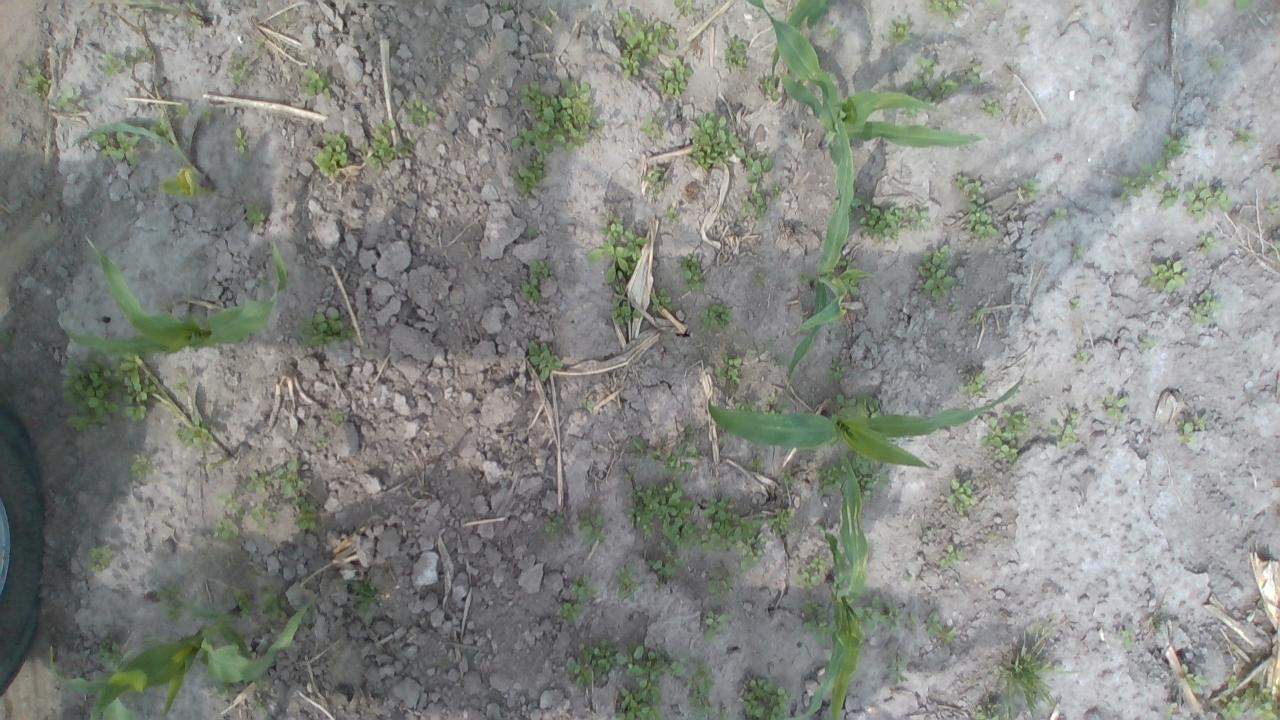Maize: (742, 0, 984, 152), (45, 593, 312, 720), (705, 375, 1025, 471), (57, 231, 292, 358), (788, 117, 874, 384), (794, 453, 867, 720), (770, 0, 836, 80)
Weeds: (58, 348, 158, 434), (994, 625, 1072, 720), (509, 76, 604, 154), (624, 478, 701, 551), (701, 494, 764, 572), (589, 213, 648, 295), (612, 10, 676, 80), (688, 111, 748, 170), (564, 640, 626, 690), (614, 640, 689, 680), (906, 56, 960, 109), (358, 119, 412, 170), (1116, 156, 1174, 202), (980, 410, 1030, 463), (1217, 678, 1280, 720), (846, 449, 892, 505), (740, 673, 791, 720), (916, 245, 960, 299), (86, 127, 144, 167), (852, 592, 905, 634), (858, 194, 902, 243), (1183, 180, 1234, 222), (302, 306, 354, 346), (614, 678, 663, 720), (796, 598, 834, 650), (1142, 257, 1192, 294), (156, 164, 207, 200), (964, 192, 1001, 240), (683, 662, 713, 720), (258, 582, 296, 626), (314, 131, 351, 175), (526, 338, 562, 382), (830, 254, 864, 299), (654, 56, 692, 96), (834, 391, 884, 420), (660, 446, 703, 478), (270, 459, 305, 498), (1046, 410, 1080, 449), (512, 154, 545, 194), (576, 509, 610, 547), (646, 548, 686, 580), (158, 582, 187, 626), (946, 478, 980, 515), (676, 253, 706, 294), (814, 460, 846, 498), (176, 415, 211, 449), (925, 610, 958, 646), (880, 14, 914, 48), (1188, 290, 1223, 323), (1176, 662, 1212, 694), (298, 67, 334, 98), (346, 576, 378, 610), (96, 638, 128, 672), (744, 154, 772, 192), (720, 33, 750, 68), (404, 98, 439, 128), (796, 556, 826, 590), (712, 351, 742, 385), (831, 190, 865, 220), (614, 564, 640, 603), (702, 609, 732, 642), (289, 496, 319, 529), (98, 50, 134, 77), (238, 194, 268, 226), (1101, 391, 1130, 424), (738, 190, 769, 220), (957, 366, 986, 398), (1161, 130, 1190, 162), (701, 302, 734, 330), (1175, 414, 1207, 442), (248, 498, 276, 530), (886, 654, 911, 689), (21, 62, 45, 98), (85, 544, 114, 572), (640, 166, 668, 195), (128, 452, 158, 479), (570, 574, 597, 604), (211, 514, 241, 541), (610, 300, 642, 325), (754, 75, 782, 103), (938, 544, 966, 572), (54, 88, 83, 115), (227, 54, 250, 88), (232, 588, 255, 622), (924, 0, 961, 21), (148, 115, 175, 143), (766, 508, 791, 538), (902, 207, 932, 232), (961, 63, 989, 89), (649, 284, 675, 312), (637, 109, 660, 138), (954, 172, 984, 194), (707, 572, 737, 594), (246, 472, 273, 496), (559, 601, 584, 626), (1194, 232, 1220, 256), (216, 493, 242, 516), (1228, 127, 1257, 146), (212, 679, 238, 700), (526, 258, 552, 279), (232, 126, 251, 154), (732, 397, 760, 416), (979, 96, 1002, 118), (1158, 187, 1180, 209), (542, 512, 562, 536), (828, 358, 848, 382), (974, 702, 1000, 720), (670, 0, 695, 18), (1020, 178, 1042, 198), (1046, 204, 1068, 224), (764, 396, 786, 416), (173, 100, 193, 121), (520, 278, 540, 299), (1121, 628, 1138, 652), (749, 454, 767, 476), (198, 103, 214, 126), (780, 469, 800, 487), (751, 271, 769, 290), (1206, 55, 1226, 72), (662, 206, 679, 226), (774, 350, 792, 368), (630, 436, 649, 453), (1014, 20, 1030, 40), (494, 0, 514, 16), (0, 326, 16, 346), (898, 105, 922, 118), (1138, 336, 1158, 351), (1264, 199, 1280, 217), (826, 23, 842, 40), (1223, 673, 1240, 689), (141, 634, 157, 651), (969, 306, 988, 320), (134, 45, 154, 58), (1231, 0, 1251, 12), (1068, 296, 1082, 312), (1071, 244, 1084, 260), (174, 376, 187, 392), (1076, 352, 1090, 366), (334, 409, 347, 424), (254, 676, 266, 690), (257, 274, 270, 286), (528, 226, 540, 239), (1195, 0, 1212, 9), (652, 446, 662, 461), (772, 184, 782, 199), (584, 398, 594, 412), (799, 271, 810, 283), (718, 711, 731, 720), (988, 0, 1002, 8), (543, 14, 552, 24), (1274, 166, 1280, 178)
